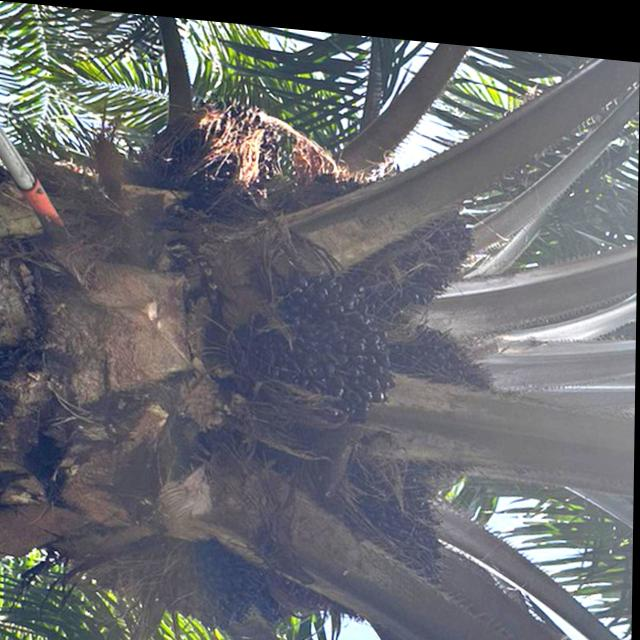unripe: (236, 254, 402, 432)
